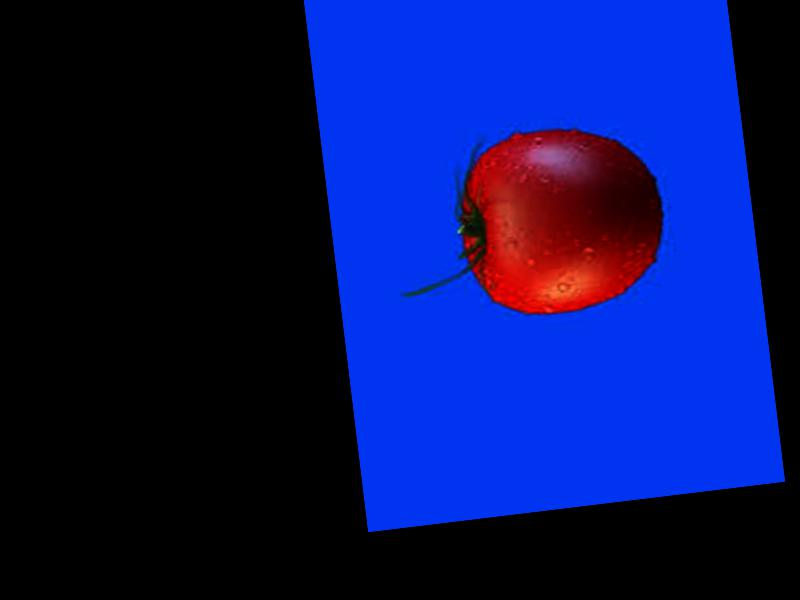Tomato: (449, 115, 672, 323)
